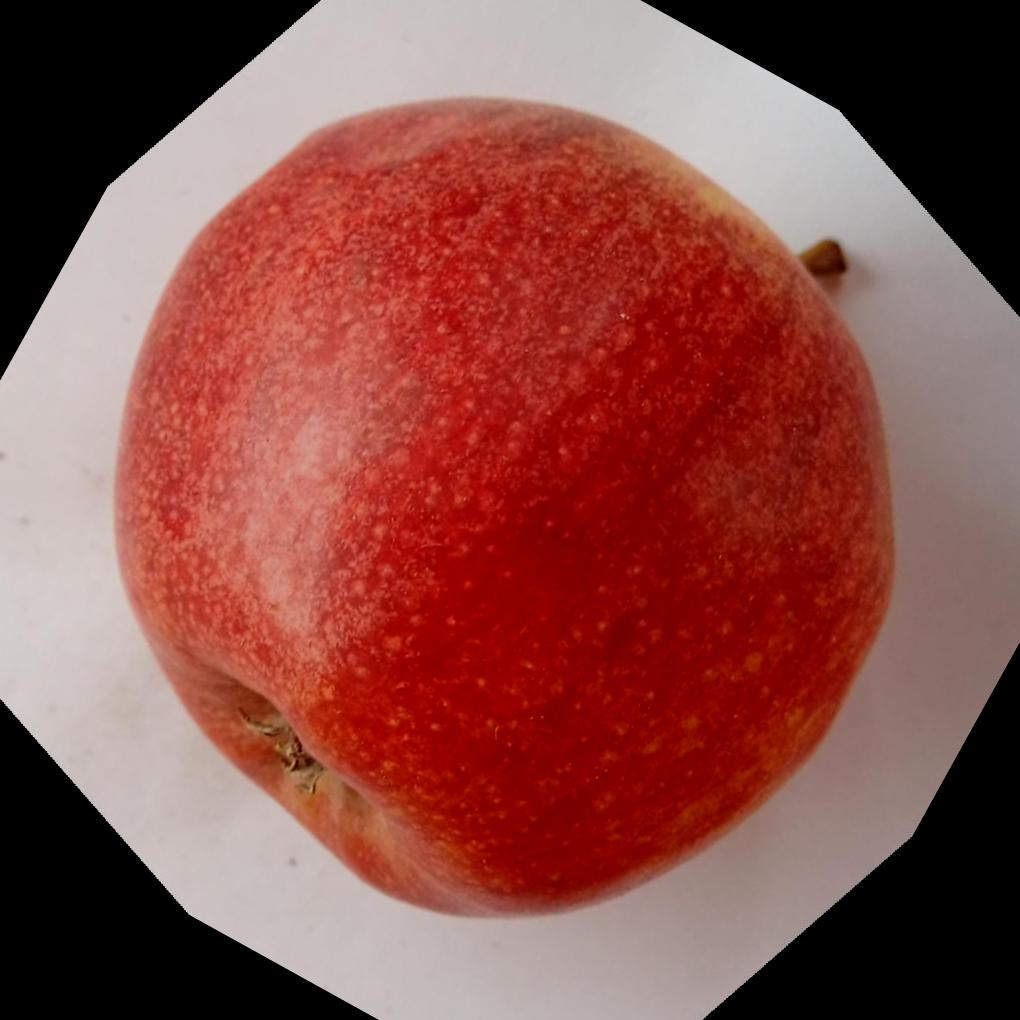FreshGuava: (111, 87, 901, 920)
